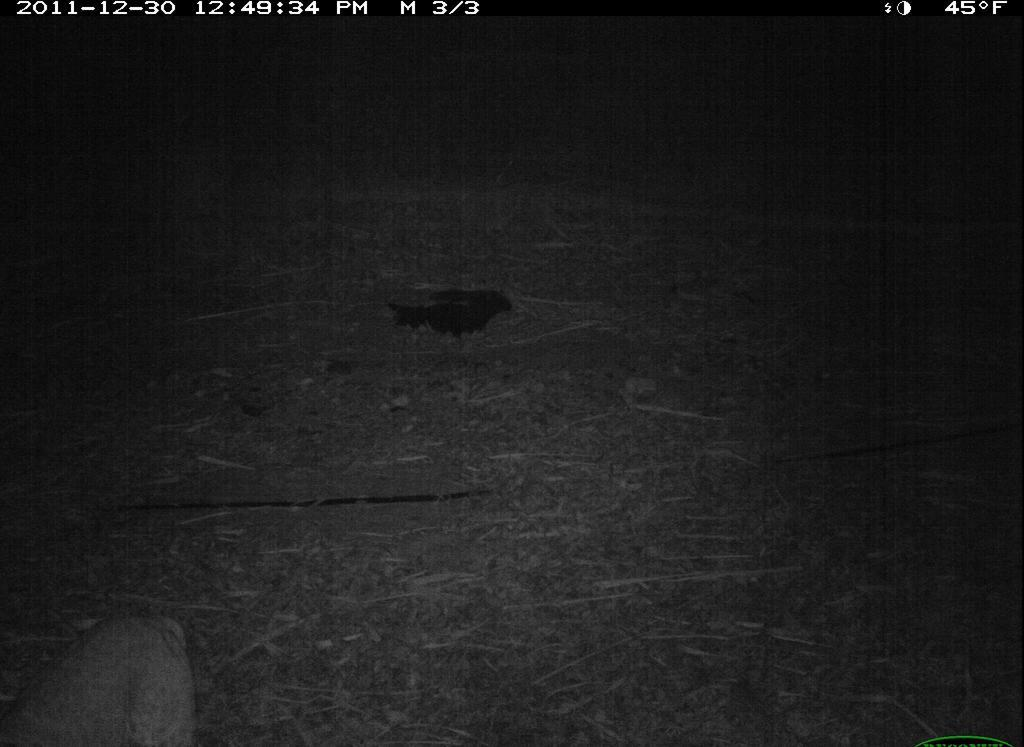bobcat: (1, 607, 205, 743)
